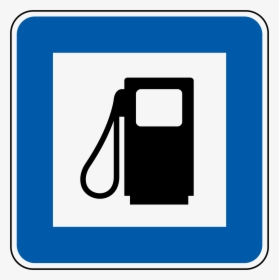fuel-station: (53, 53, 225, 226)
